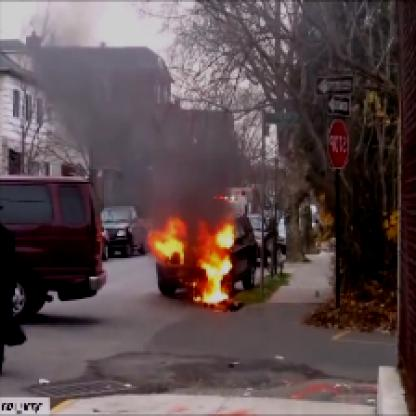Fire: (152, 173, 245, 310)
